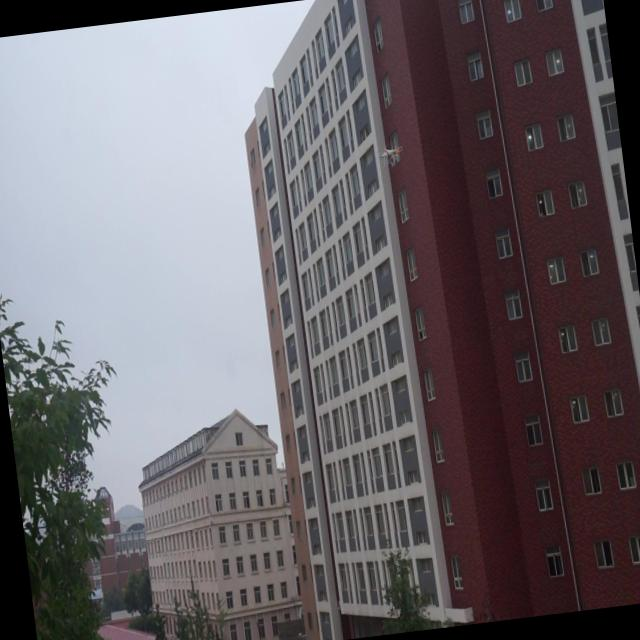drone: (375, 140, 405, 169)
